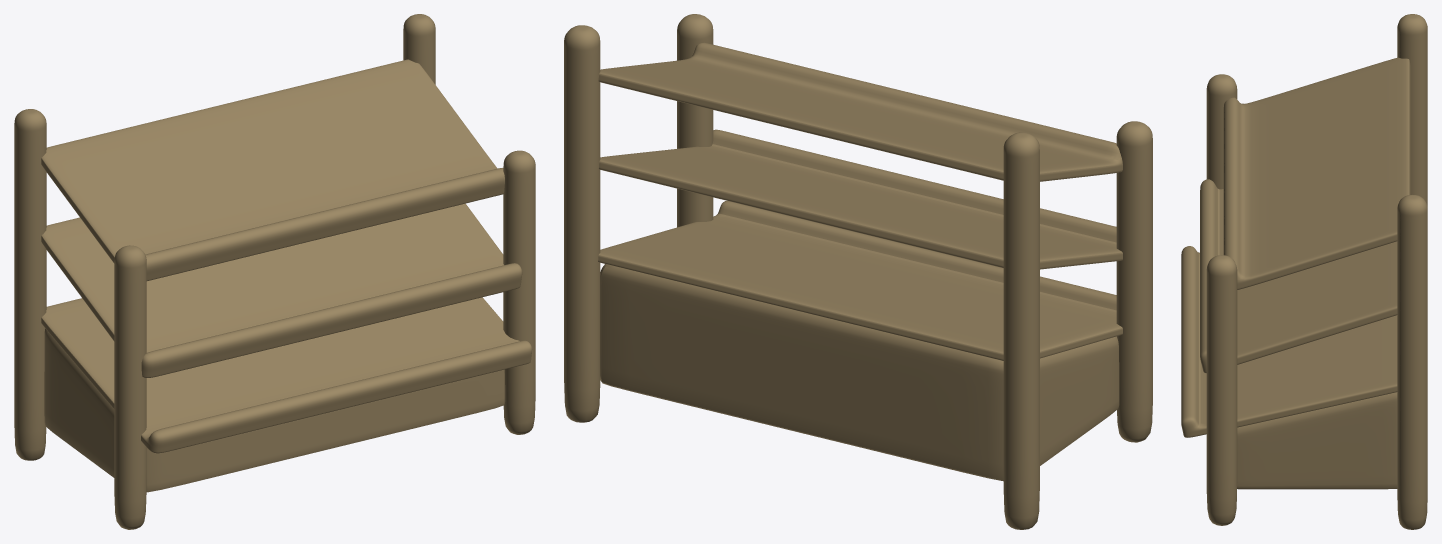
The model's file is Tezgah.fbx.
3 views of the same model, side by side, from view 1: azimuth 30°, elevation 25°; view 2: azimuth 150°, elevation 25°; view 3: azimuth 270°, elevation 25° (orthographic). The views are drawn at different scales.
Visible parts, largest first — view 1: Plane.028; view 2: Plane.028; view 3: Plane.028.
Part boxes in pixels (left/top/right/bottom): Plane.028: left=14, top=14, right=535, bottom=529; Plane.028: left=564, top=14, right=1152, bottom=529; Plane.028: left=1181, top=14, right=1427, bottom=529.
Bounding box in the file's own units: 1033 × 822 × 556.
